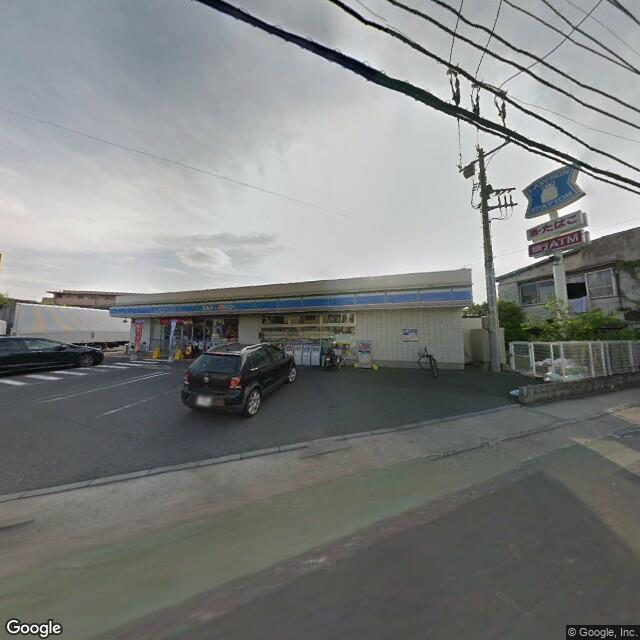lawson: (108, 277, 474, 321), (520, 159, 582, 223)
